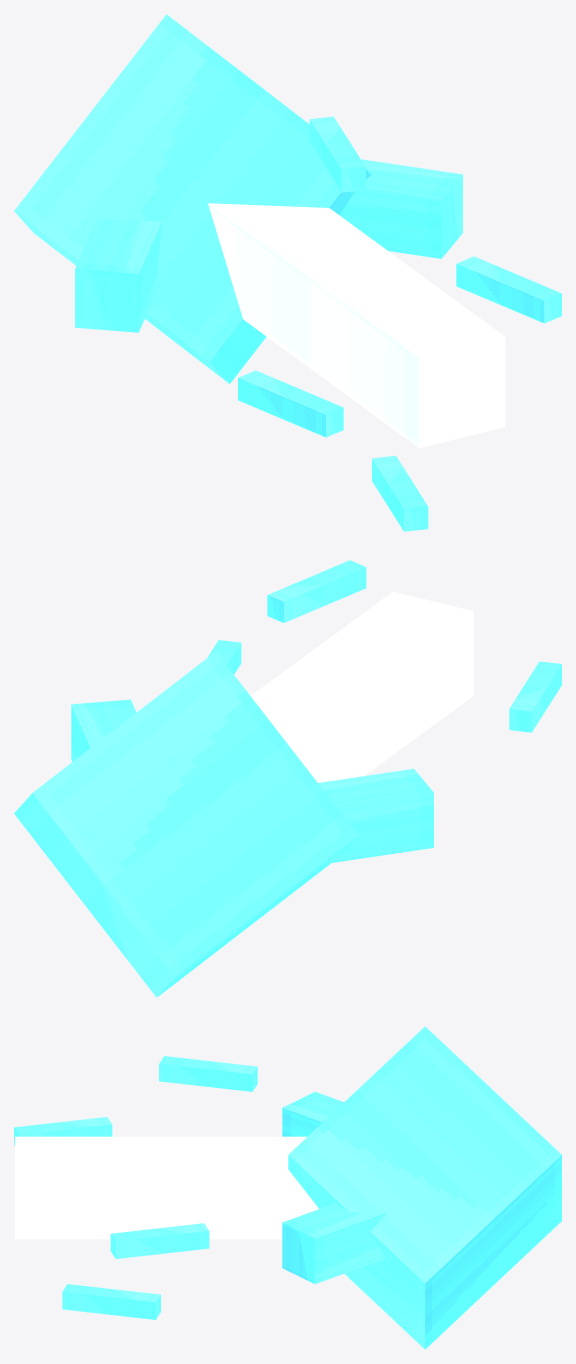
File: throne_shot_blue.gltf
3 views of the same model, one above another, from view 1: azimuth 30°, elevation 25°; view 2: azimuth 150°, elevation 25°; view 3: azimuth 270°, elevation 25° (orthographic). The views are drawn at different scales.
Visible parts, largest first — view 1: core_mesh; view 2: core_mesh; view 3: core_mesh.
Boxes of the visible parts, box(x1,y1,x2,y2) form: core_mesh: box(14, 14, 561, 531); core_mesh: box(14, 560, 561, 997); core_mesh: box(14, 1026, 561, 1349).
Size of the model in its own units: 0.674 by 0.6402 by 1.06.
1 material, 1 textured.
